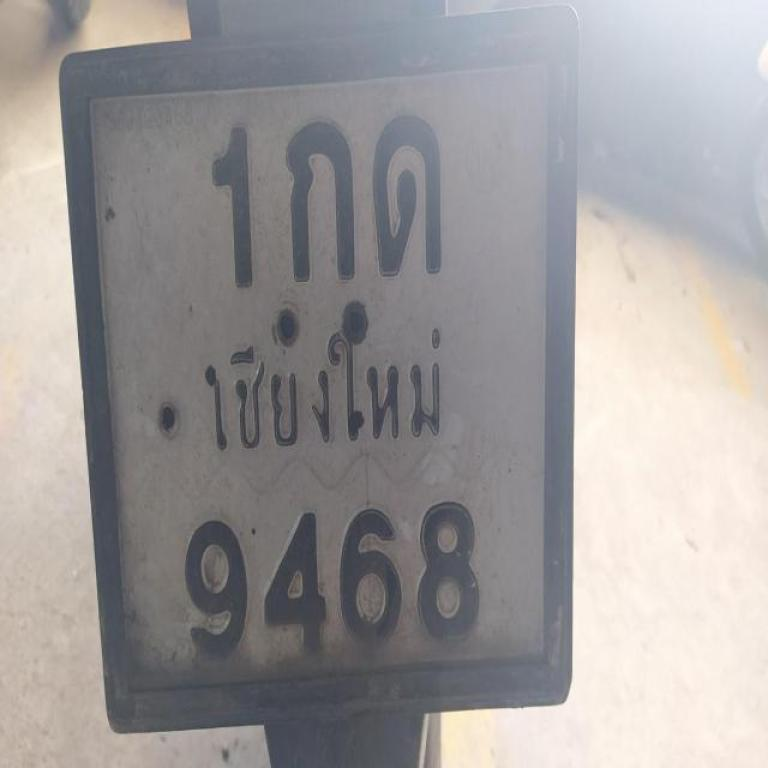license plate: (64, 5, 577, 741)
